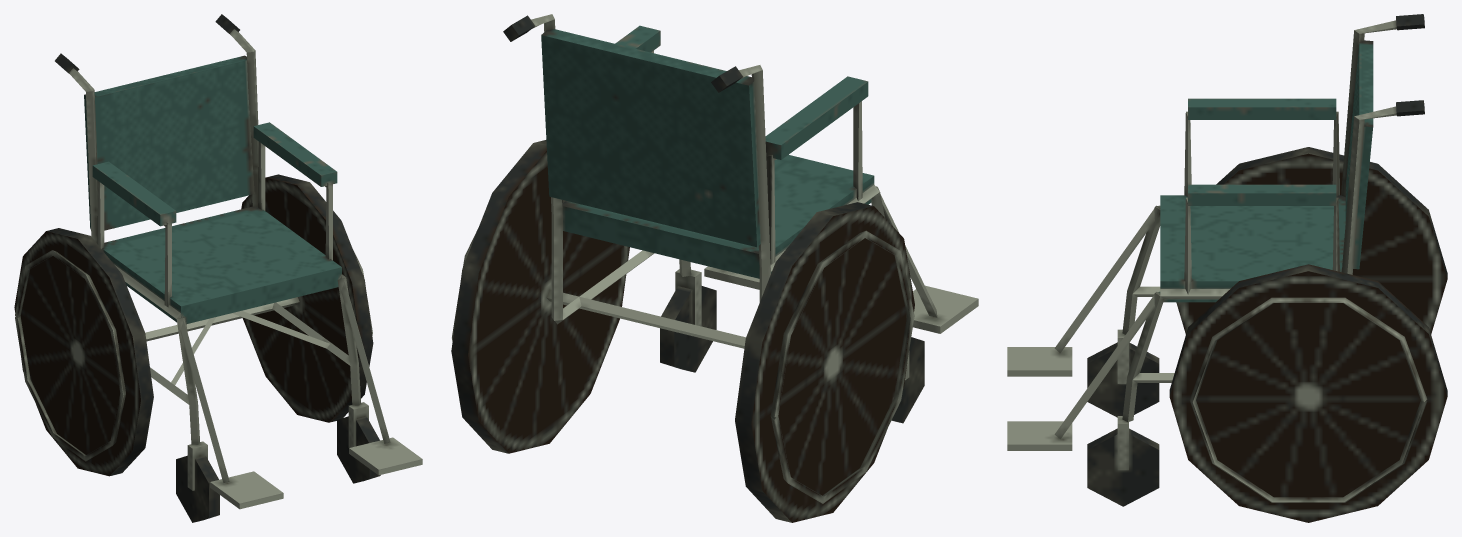
File: Wheelchair_01.obj
3 renders of one model, left to right at view 1: azimuth 30°, elevation 25°; view 2: azimuth 150°, elevation 25°; view 3: azimuth 270°, elevation 25°, orthographic. The views are drawn at different scales.
Parts seen in each view (by area): view 1: Wheelchair_01; view 2: Wheelchair_01; view 3: Wheelchair_01.
Part boxes in pixels (<box>): Wheelchair_01: <box>14,14,422,522</box>; Wheelchair_01: <box>451,14,978,522</box>; Wheelchair_01: <box>1007,14,1447,522</box>.
Bounding box in the file's own units: 0.687 × 0.9619 × 0.95.
Materials: 1 (1 with a texture image).
